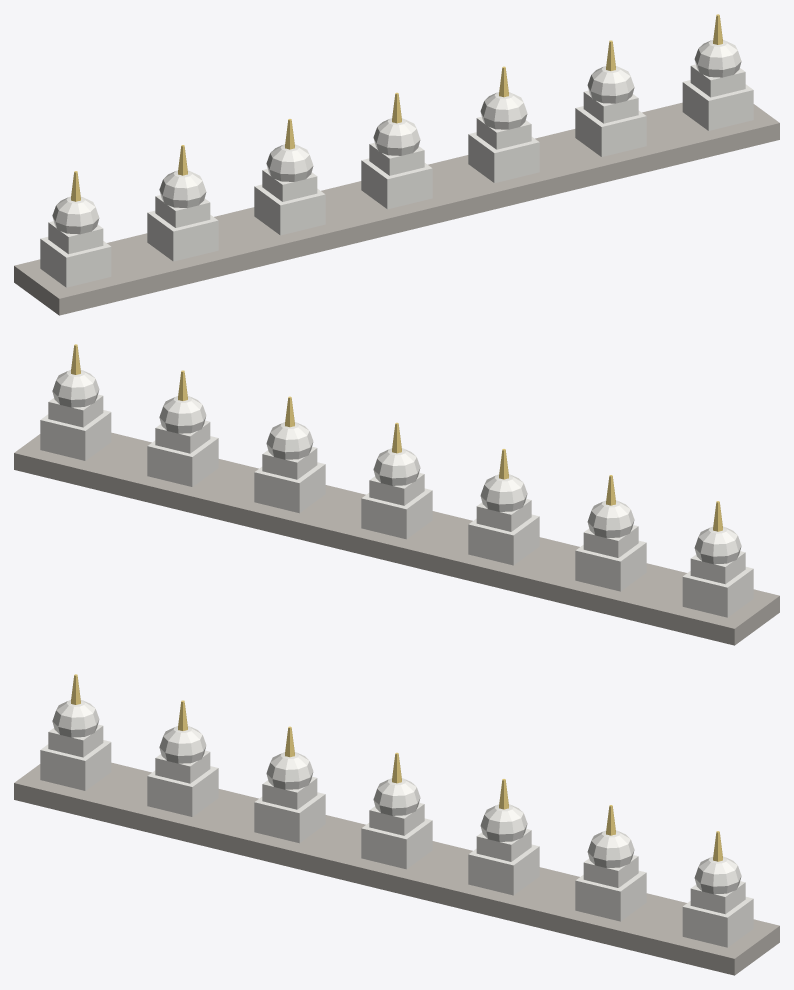
The picture shows the model from 3 angles, top to bottom: view 1: azimuth 30°, elevation 25°; view 2: azimuth 150°, elevation 25°; view 3: azimuth 330°, elevation 25°; orthographic projection.
Visible parts, largest first — view 1: WB_chortenRow; view 2: WB_chortenRow; view 3: WB_chortenRow.
Part boxes in pixels (box(x1,y1,x2,y2)): WB_chortenRow: box(14, 14, 779, 315); WB_chortenRow: box(14, 344, 779, 645); WB_chortenRow: box(14, 674, 779, 975).
Bounding box in the file's own units: 20.2 × 3.15 × 2.2.
